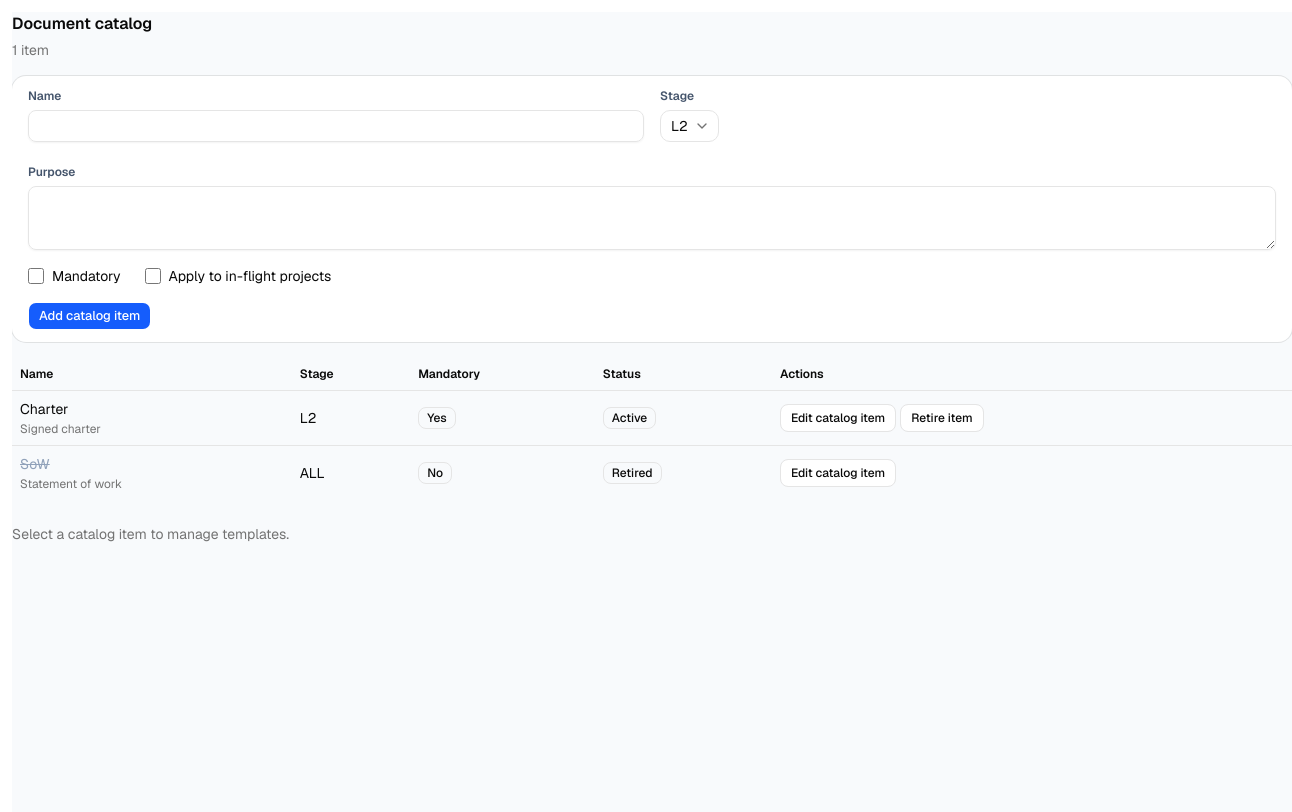
Test case: DocumentCatalogPage › templates panel › GETs templates when a catalog row is selected
The image size is (1292, 812).
Click the text "Charter" at (44, 408), box [20, 400, 68, 418]
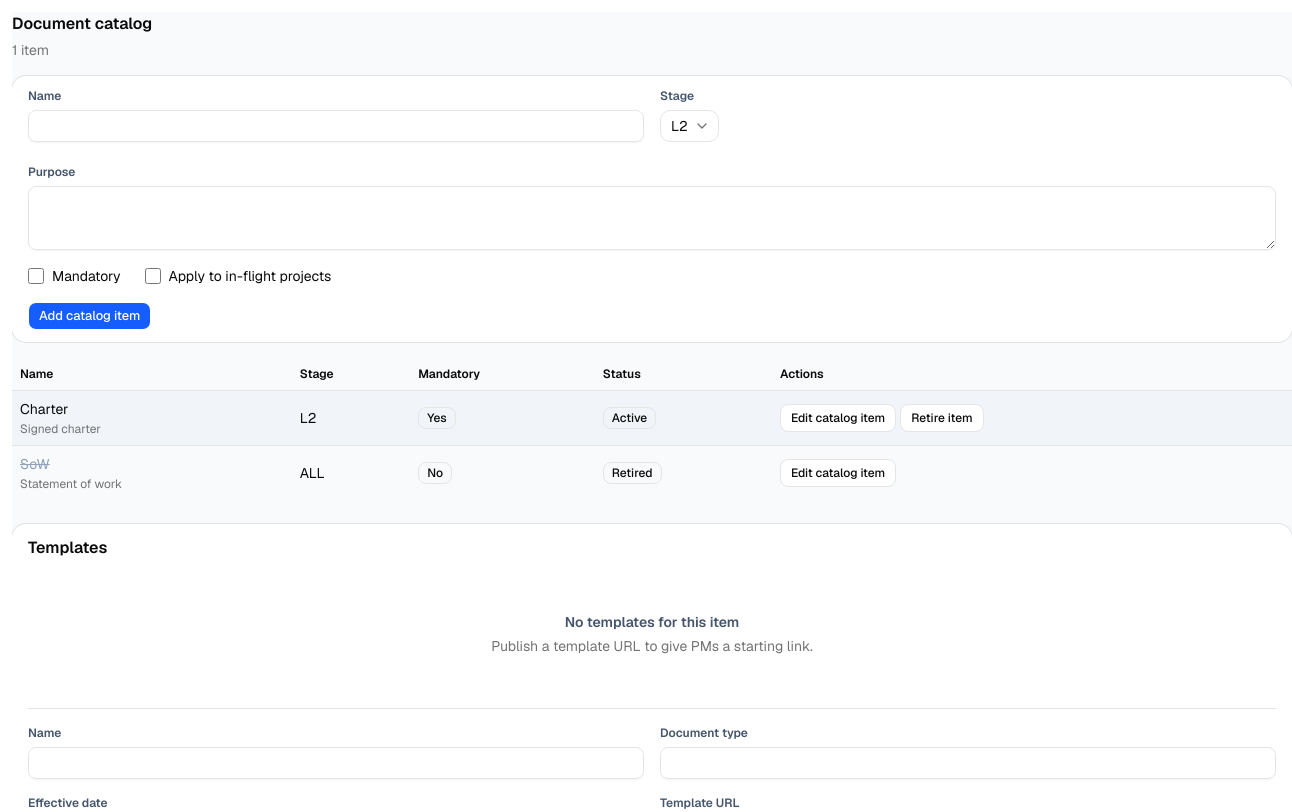
Result: the text "No templates for this item" is shown at [565, 612, 739, 630]
Result: the text "Publish a template URL to give PMs a starting link." is shown at [491, 636, 813, 654]
